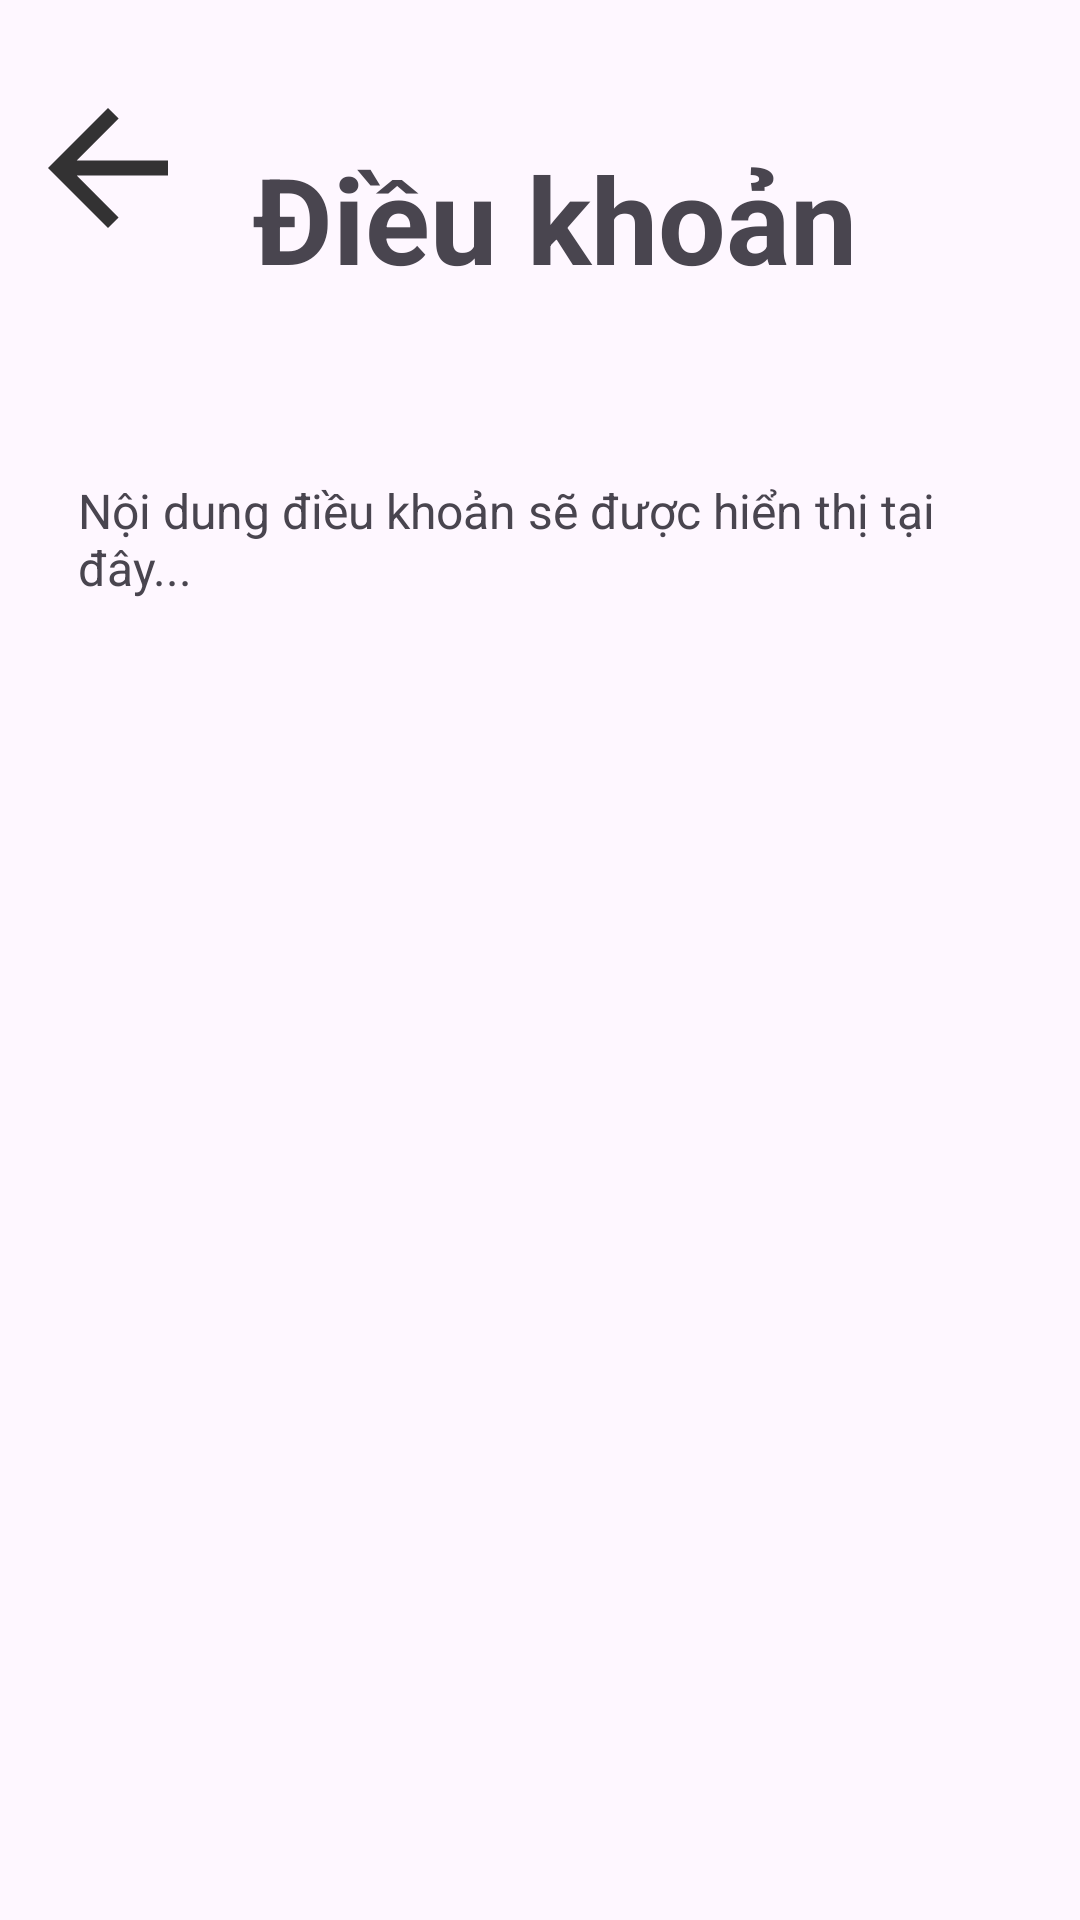

Icons on this 1080*1920 Android screen, each with the point to tap as [x,y]:
arrowback: [108,168]
